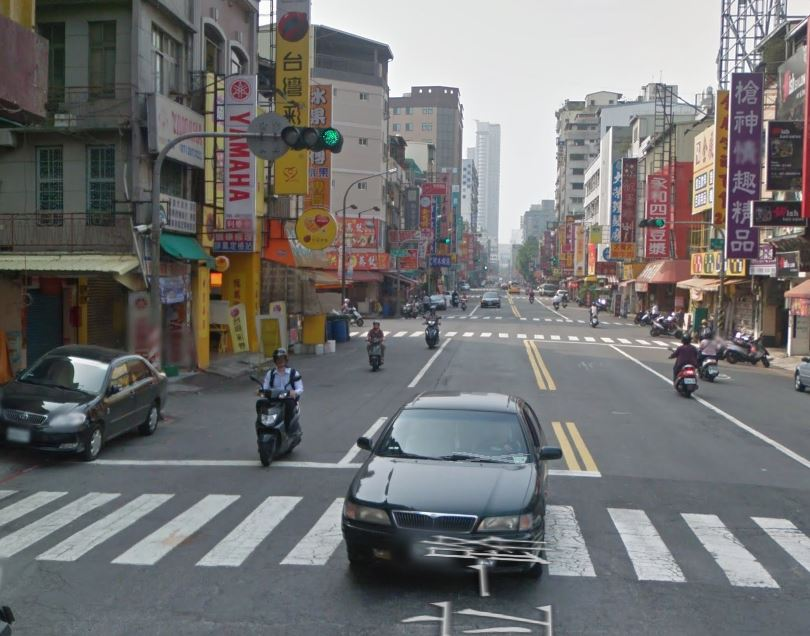Traffic_light_green: (281, 121, 346, 155)
car: (346, 384, 571, 587), (1, 342, 172, 466)
motorcycle: (241, 372, 312, 469), (668, 348, 701, 398), (361, 333, 388, 373), (419, 316, 441, 348)
